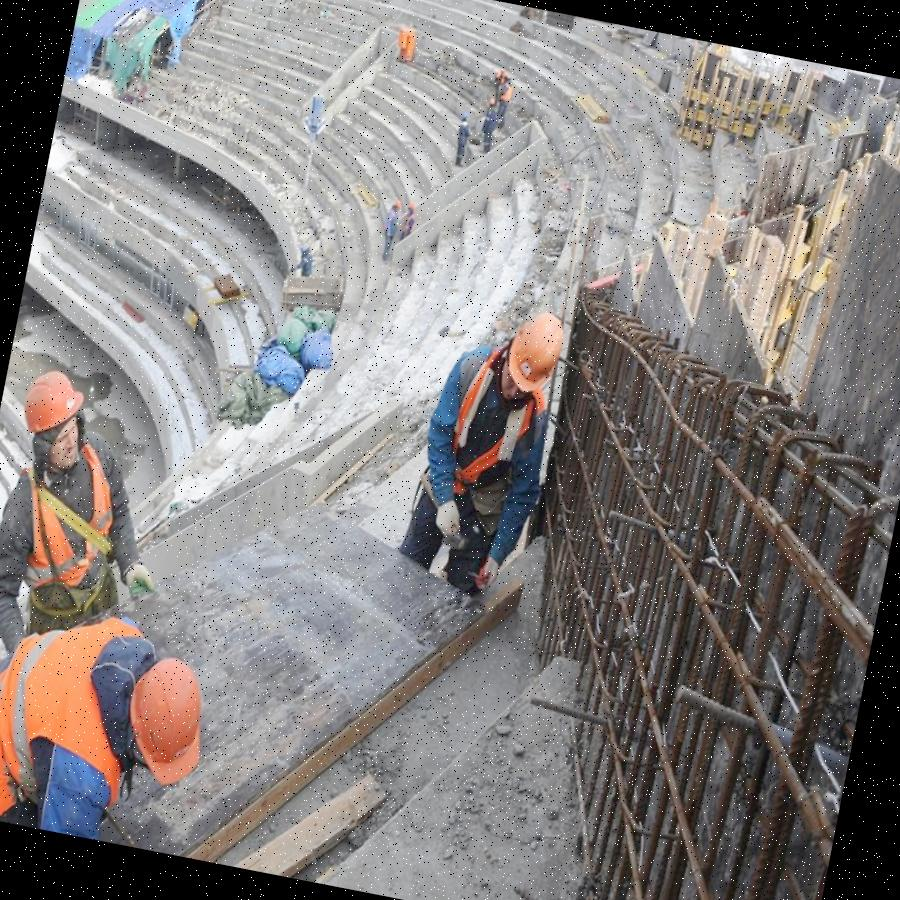Helmet: (113, 646, 220, 799), (14, 363, 96, 473), (495, 308, 569, 408), (407, 204, 416, 219), (393, 201, 403, 214), (488, 98, 497, 111), (461, 111, 470, 123), (502, 73, 511, 84), (493, 70, 502, 81)
